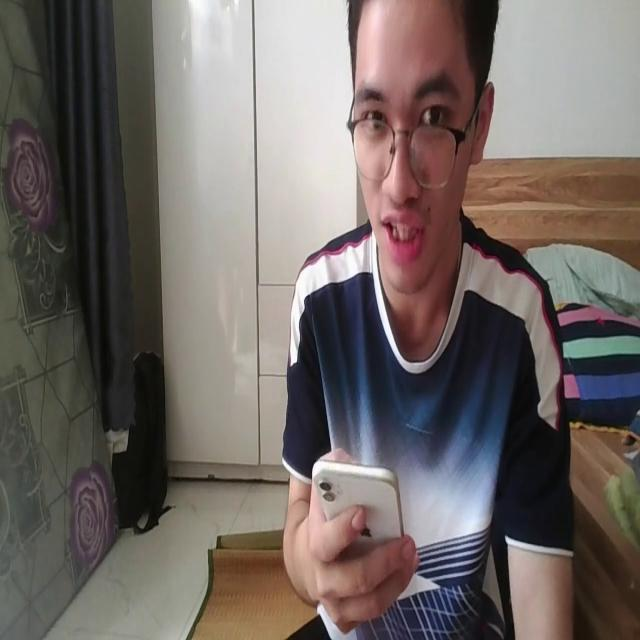phone: (312, 450, 408, 568)
student: (279, 0, 575, 640)
